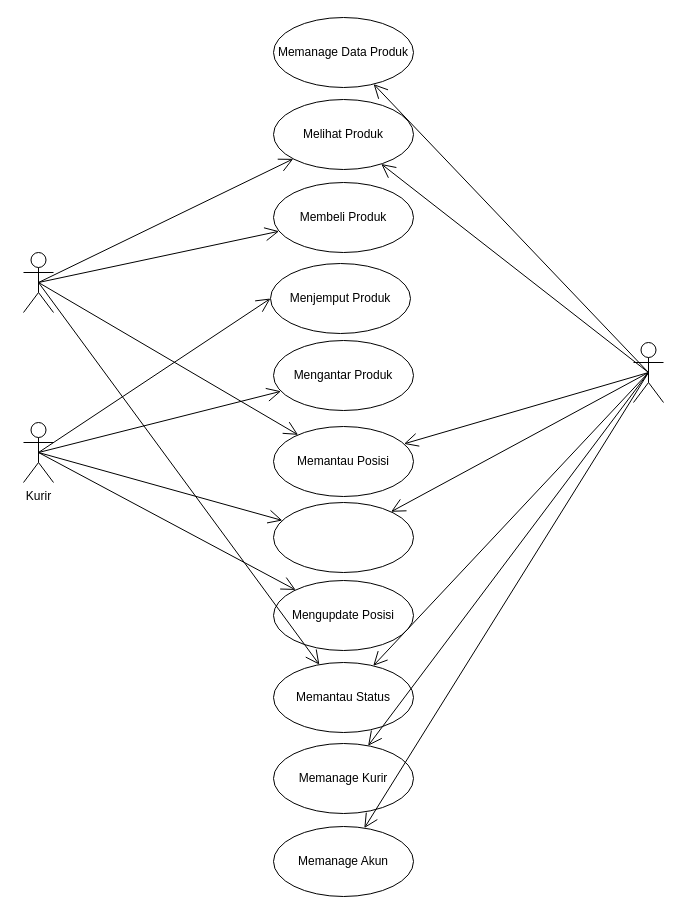
Image size: 683x914. Some labels were removed from this diagram. The centre of each missing label's shape, as x and y in pixels:
Admin: the point at 648,372
Mengupdate Status: the point at 343,537
Pembeli: the point at 38,282
